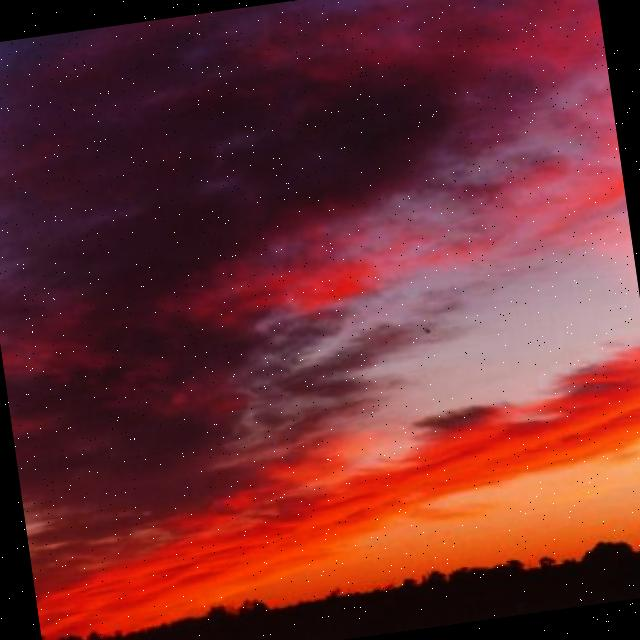As: (1, 1, 640, 600)
